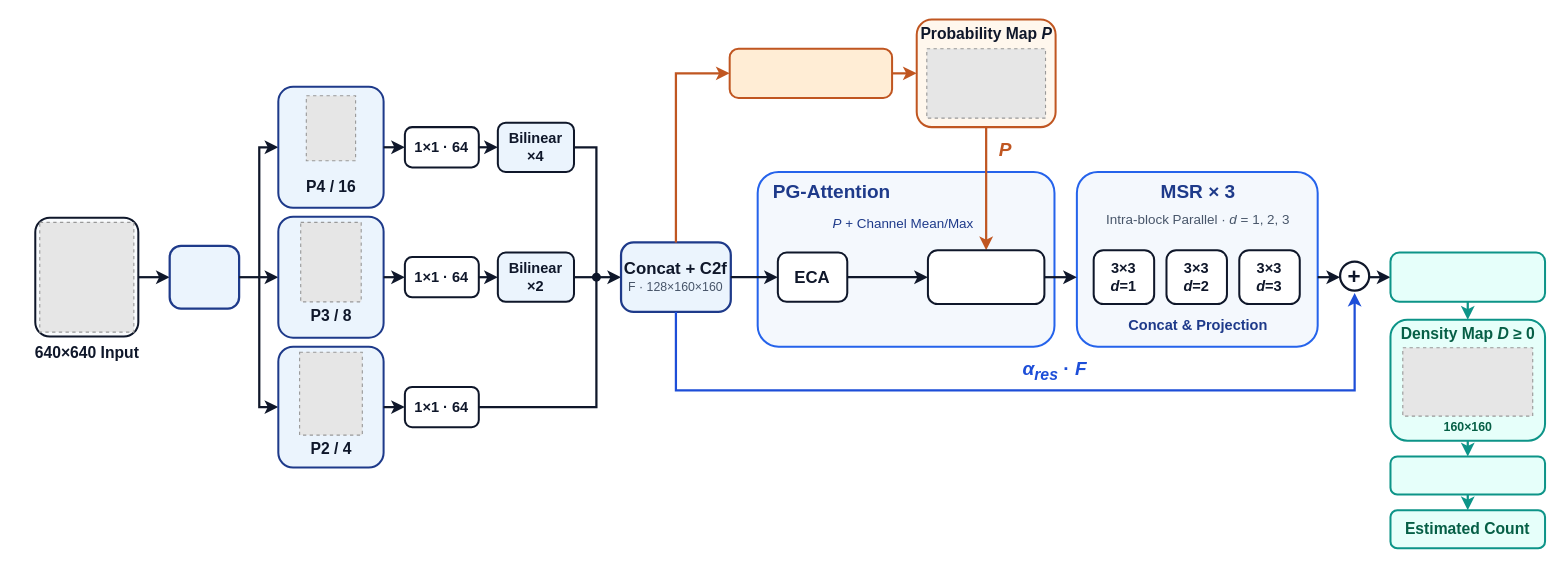
Image size: 1565x569. Some labels were removed from this diagram. Grey dashed boxes stand in for pictures. The centre of each missing label's shape, as x and y in pixels:
"7×7 Spatial Gating" belongs at (985,277).
"Density Head · Softplus" belongs at (1467,276).
"Prob Head · Sigmoid" belongs at (810,72).
"Spatial Sum Σ D" belongs at (1467,475).
"YOLO" belongs at (204,276).
